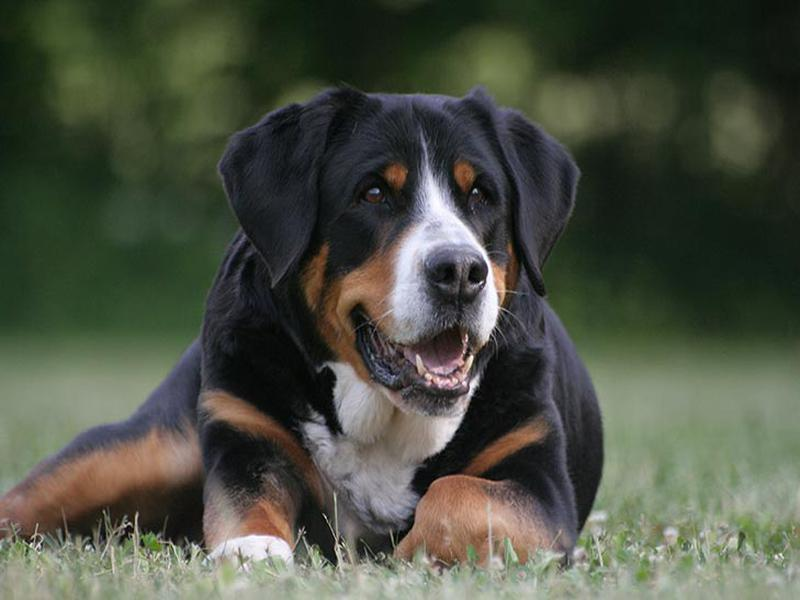dog_down: (23, 110, 608, 575)
